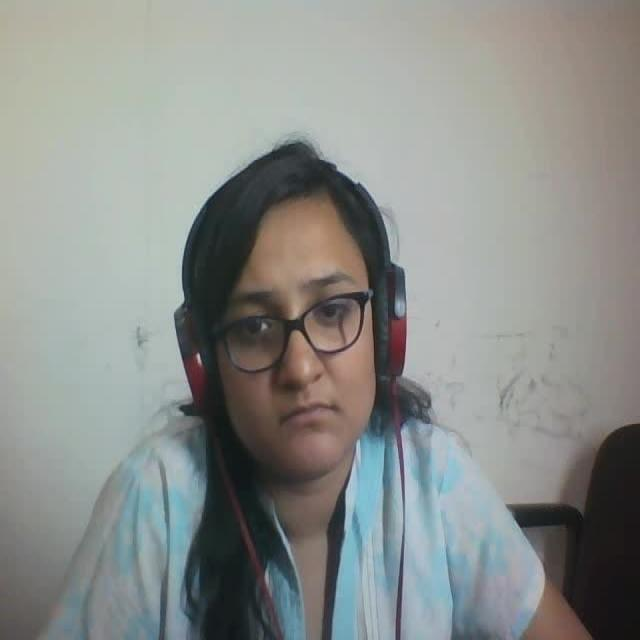Engaged: (156, 132, 435, 509)
